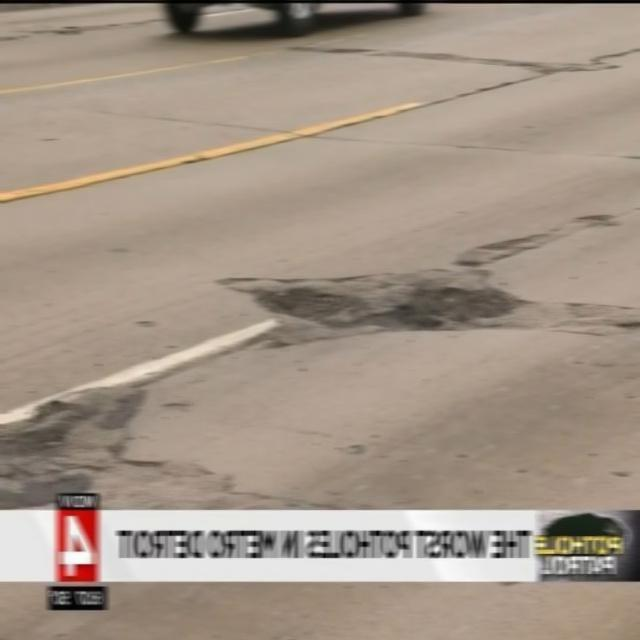Pothole: (203, 243, 516, 354), (0, 370, 192, 504), (568, 205, 616, 234)
